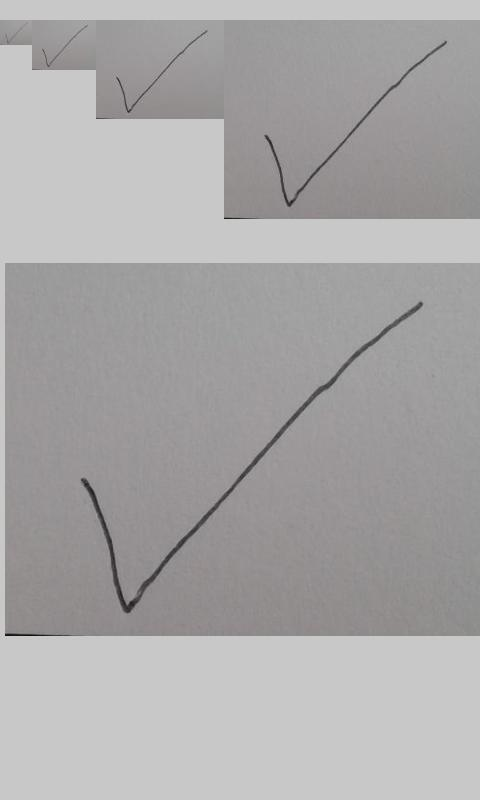check_box: (78, 305, 417, 613), (264, 41, 447, 207), (116, 30, 208, 113), (42, 25, 88, 67), (5, 23, 26, 44)
